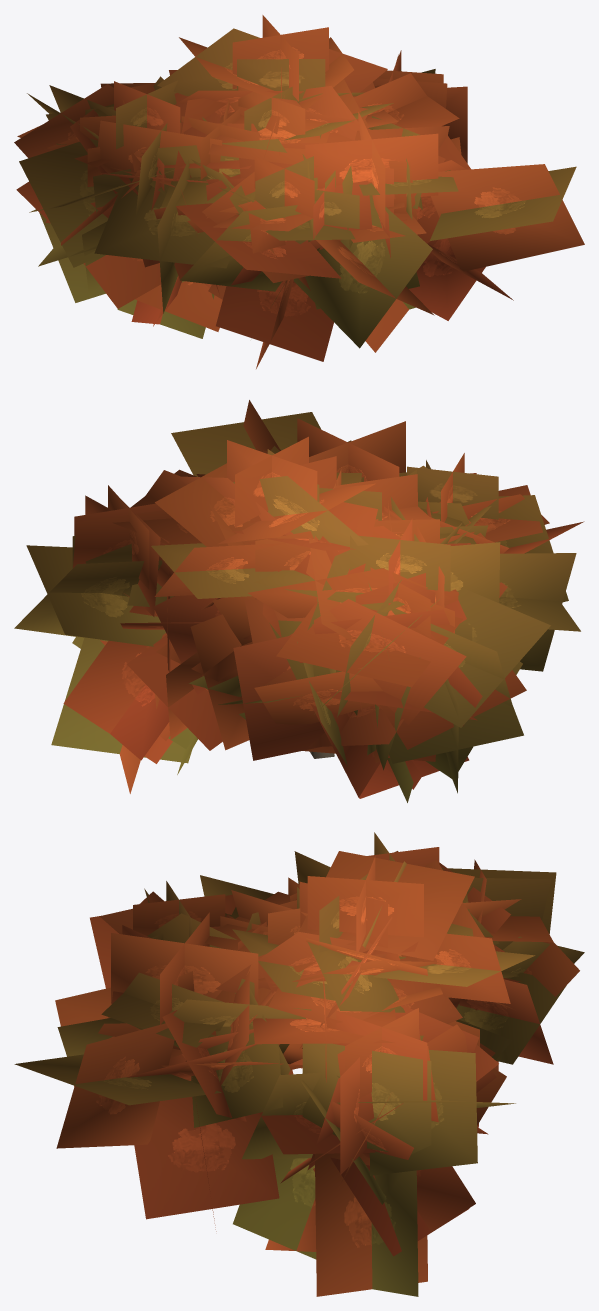
Rendered from flamboyan-muybajo.glb.
The picture shows the model from 3 angles, top to bottom: view 1: azimuth 30°, elevation 25°; view 2: azimuth 150°, elevation 25°; view 3: azimuth 270°, elevation 25°; orthographic projection. The views are drawn at different scales.
Visible parts, largest first — view 1: flamboyan; view 2: flamboyan; view 3: flamboyan.
Boxes of the visible parts, bbox=[...] form: flamboyan: bbox=[14, 15, 584, 368]; flamboyan: bbox=[14, 400, 584, 802]; flamboyan: bbox=[14, 832, 584, 1296].
Bounding box in the file's own units: 18.6 × 12.88 × 18.9.
Materials: 2 (1 with a texture image).
